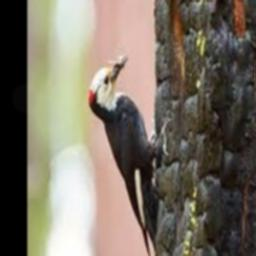Woodpecker: (90, 51, 171, 256)
